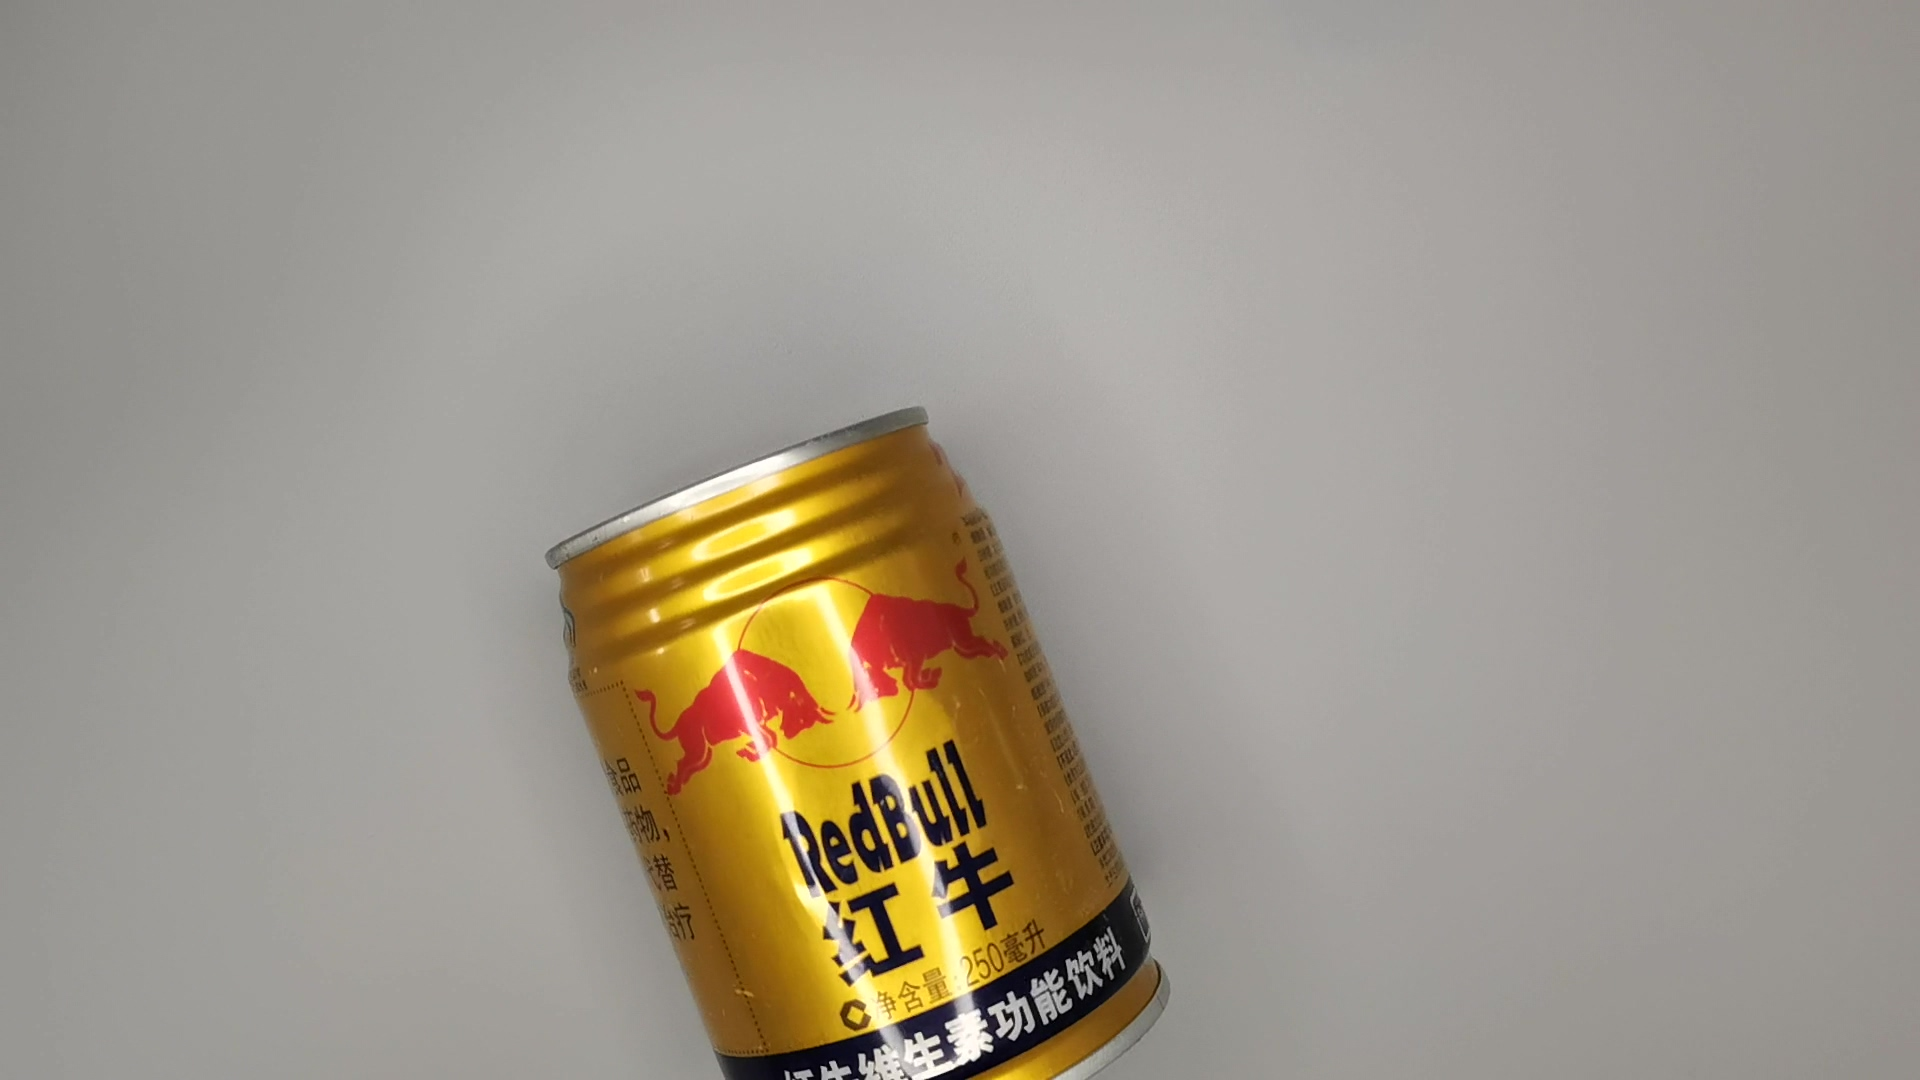can: (529, 393, 1193, 1080)
